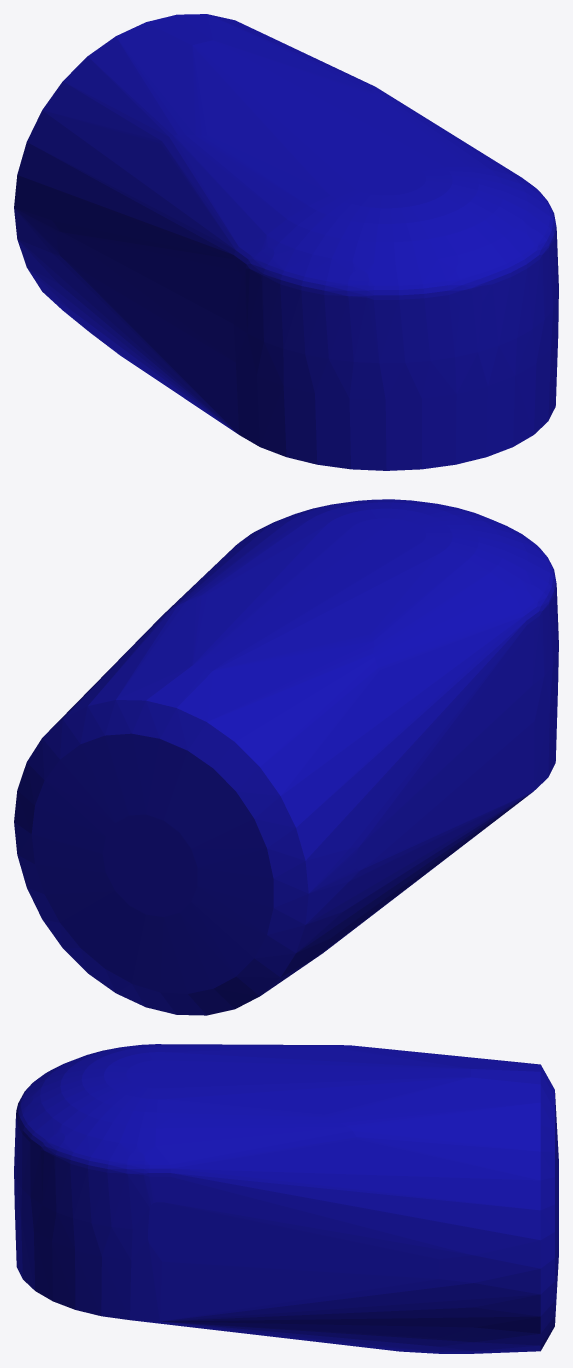
File: MOTOMAN_AXIS_S.dae
3 renders of one model, top to bottom at view 1: azimuth 30°, elevation 25°; view 2: azimuth 150°, elevation 25°; view 3: azimuth 270°, elevation 25°, orthographic. The views are drawn at different scales.
Visible parts, largest first — view 1: node; view 2: node; view 3: node.
Part boxes in pixels (x1=…): node: x1=14, y1=14, x2=558, y2=470; node: x1=14, y1=499, x2=558, y2=1015; node: x1=14, y1=1044, x2=558, y2=1353.
Bounding box in the file's own units: 0.218 × 0.22 × 0.4069.
